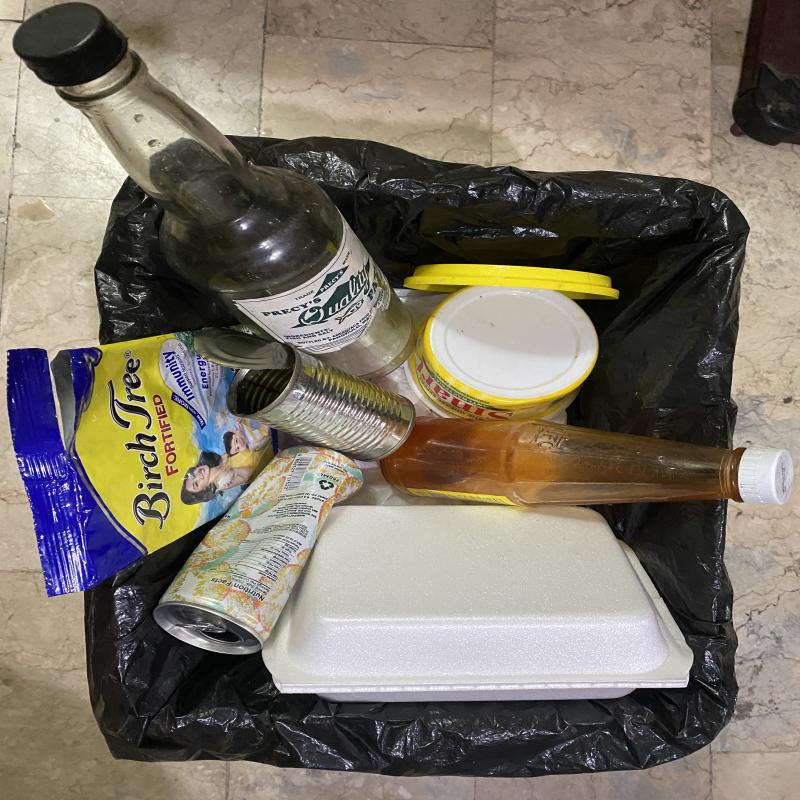aluminum: (153, 446, 365, 656), (193, 327, 416, 462)
food wrapper: (6, 331, 279, 598)
glass bottle: (12, 2, 420, 380), (378, 417, 794, 507)
plastic container: (403, 286, 599, 421), (403, 264, 619, 301)
styrofoam containers: (261, 506, 696, 704)
